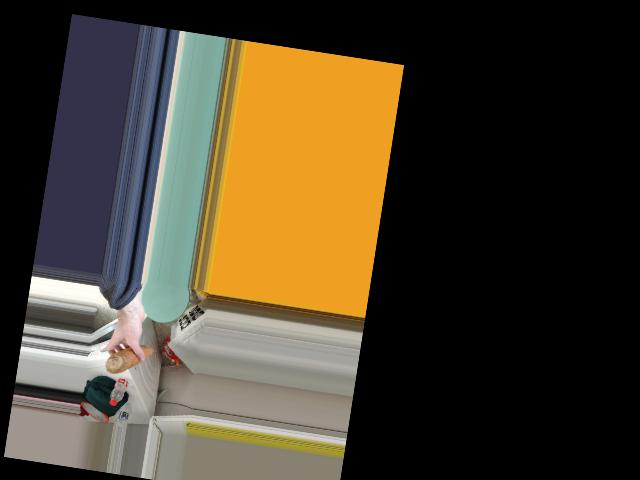sweet_potato: (104, 341, 154, 380)
